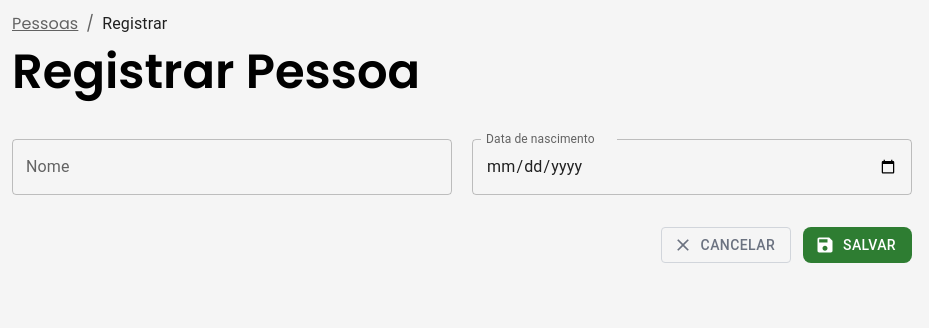
Test case: PersonRegisterPage › exibe detalhe limpo do ProblemDetails quando data de nascimento e futura
The width and height of the screenshot is (929, 328).
Type "Maria Souza" into the field labelled "Nome".
click(232, 167); type("Maria Souza")  # box top-left (12, 139), bottom-right (452, 195)
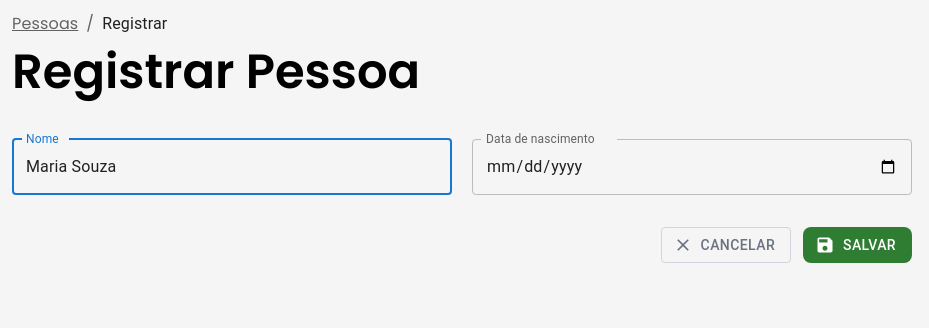
Type "2099-07-18" into the date field labelled "Data de nascimento".
click(692, 167); type("2099-07-18")  # box top-left (472, 139), bottom-right (912, 195)
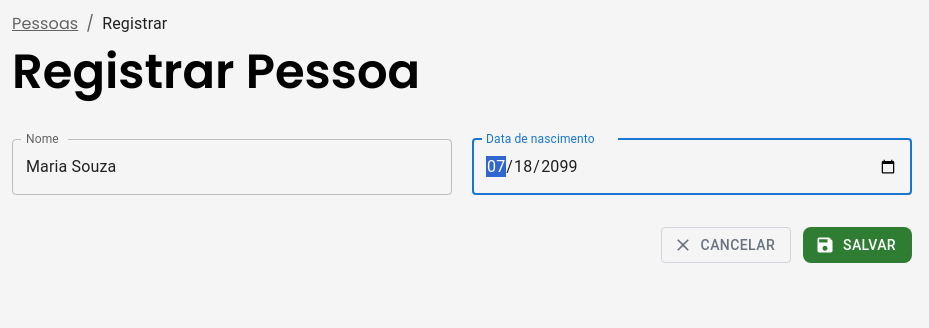
Click the button "SALVAR".
click(858, 245)  # box top-left (803, 227), bottom-right (912, 263)
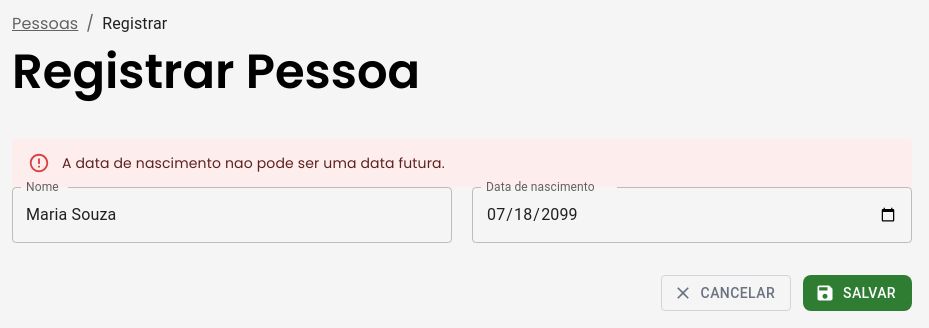
Now the text "A data de nascimento nao pode ser uma data futura." is shown, box top-left (62, 153), bottom-right (445, 173)
